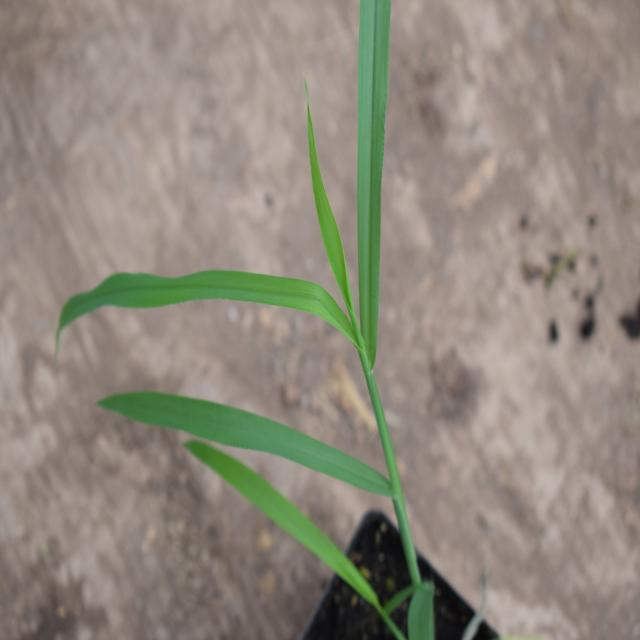crabgrass: (62, 9, 420, 591)
